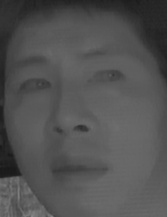eye: (86, 64, 132, 92), (15, 74, 54, 97)
mouth: (48, 150, 112, 191)
